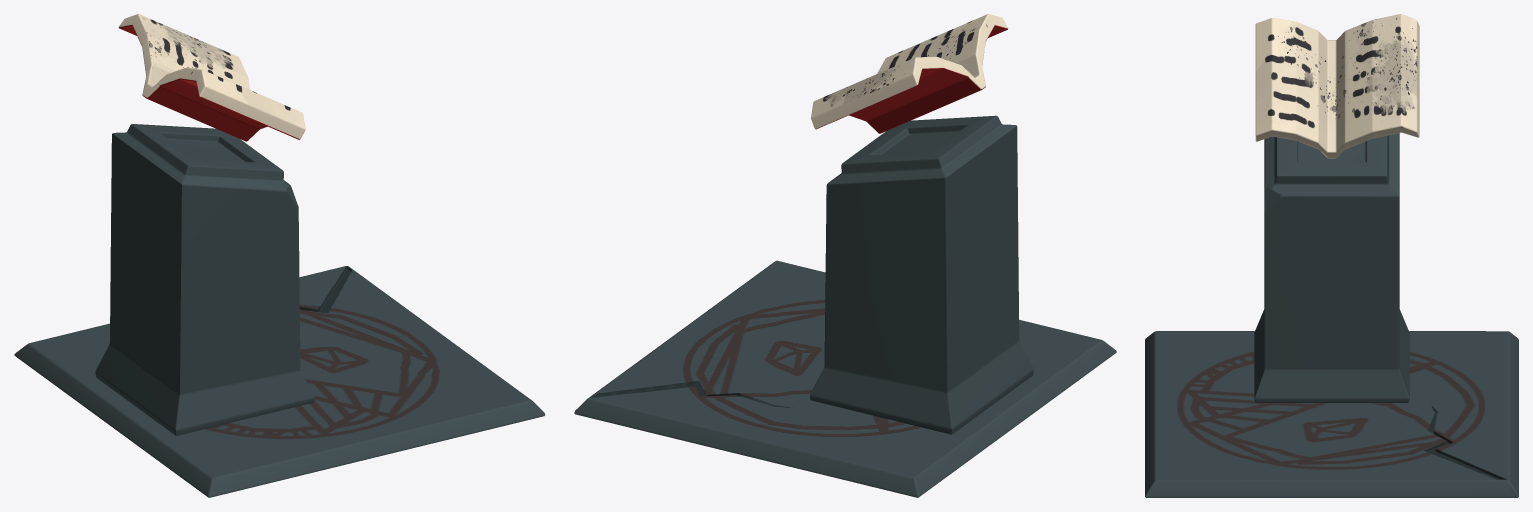
Rendered from trap.fbx.
3 views of the same model, side by side, from view 1: azimuth 30°, elevation 25°; view 2: azimuth 150°, elevation 25°; view 3: azimuth 270°, elevation 25° (orthographic). The views are drawn at different scales.
Visible parts, largest first — view 1: pCube2, pCube1, pCube3; view 2: pCube2, pCube1, pCube3; view 3: pCube1, pCube2, pCube3.
Part boxes in pixels (x1,y1,x2,y2): pCube2: (95,124,314,435); pCube1: (14,266,545,497); pCube3: (118,14,305,141); pCube2: (810,115,1033,434); pCube1: (574,260,1116,497); pCube3: (811,14,1008,133); pCube1: (1145,331,1518,497); pCube2: (1254,133,1409,402); pCube3: (1255,14,1419,158).
Size of the model in its own units: 2.8 by 2.95 by 2.8.
